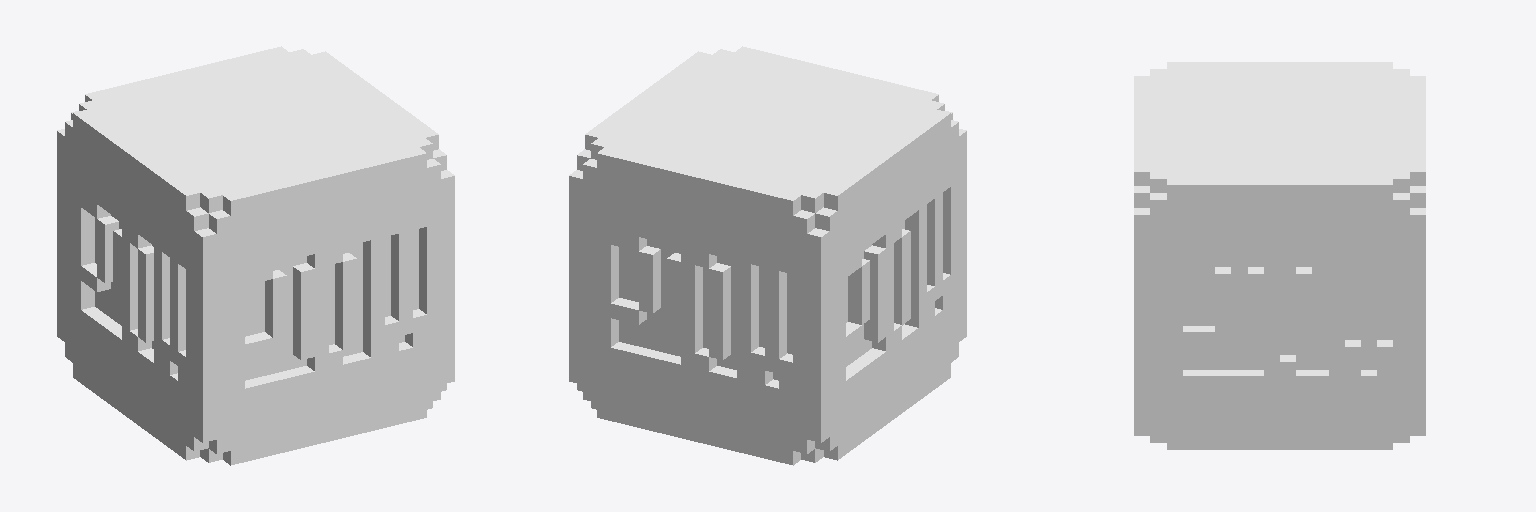
The model's file is PowButton.obj.
The picture shows the model from 3 angles: view 1: azimuth 30°, elevation 25°; view 2: azimuth 150°, elevation 25°; view 3: azimuth 270°, elevation 25°; orthographic projection.
Visible parts, largest first — view 1: object 1; view 2: object 1; view 3: object 1.
Boxes of the visible parts, x1,y1,x2,y2 form: object 1: [57, 46, 454, 465]; object 1: [569, 46, 966, 465]; object 1: [1134, 62, 1425, 449].
Bounding box in the file's own units: 1.8 × 1.8 × 1.8.